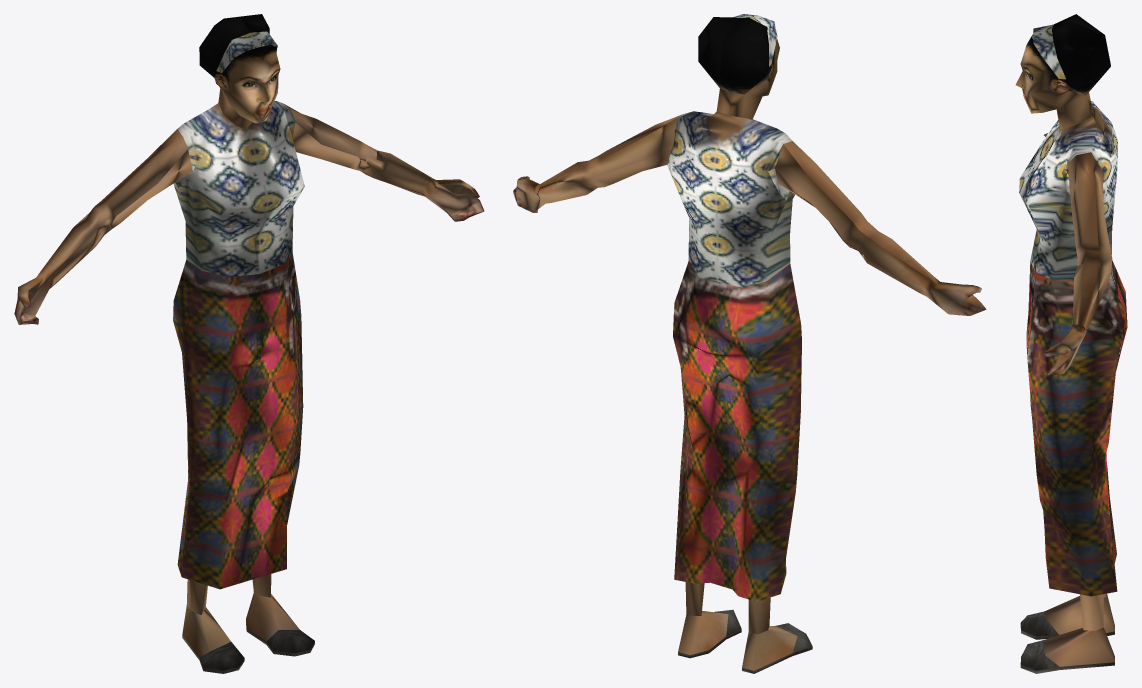
The model's file is CHOSF1.glb.
3 renders of one model, left to right at view 1: azimuth 30°, elevation 25°; view 2: azimuth 150°, elevation 25°; view 3: azimuth 270°, elevation 25°, orthographic.
Visible parts, largest first — view 1: _CHOSF1; view 2: _CHOSF1; view 3: _CHOSF1.
Part boxes in pixels (box(x1,y1,x2,y2)): _CHOSF1: box(14, 14, 484, 673); _CHOSF1: box(513, 14, 986, 673); _CHOSF1: box(1015, 14, 1127, 673).
Size of the model in its own units: 1.59 by 2.05 by 0.3327.
Materials: 1 (1 with a texture image).
